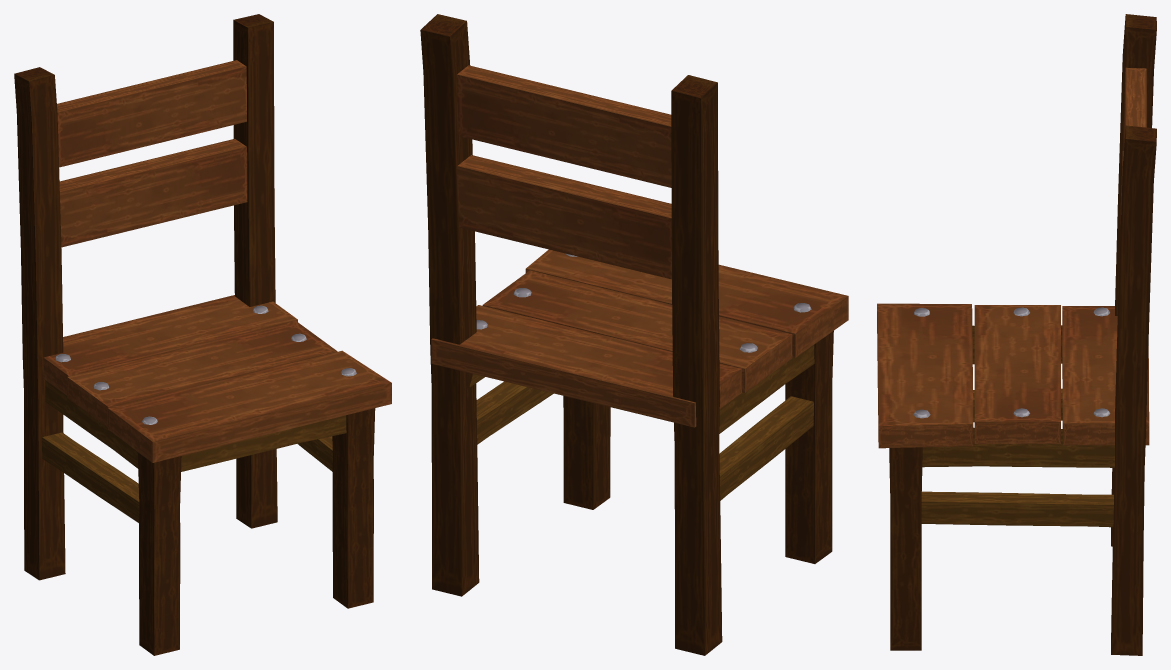
The model's file is Chair_1.glb.
3 renders of one model, left to right at view 1: azimuth 30°, elevation 25°; view 2: azimuth 150°, elevation 25°; view 3: azimuth 270°, elevation 25°, orthographic. The views are drawn at different scales.
Parts seen in each view (by area): view 1: Chair_1; view 2: Chair_1; view 3: Chair_1.
Boxes of the visible parts, x1,y1,x2,y2 form: Chair_1: [14, 14, 391, 655]; Chair_1: [420, 14, 848, 655]; Chair_1: [877, 14, 1156, 655].
Size of the model in its own units: 0.5805 by 1.12 by 0.5489.
Materials: 2 (2 with a texture image).
